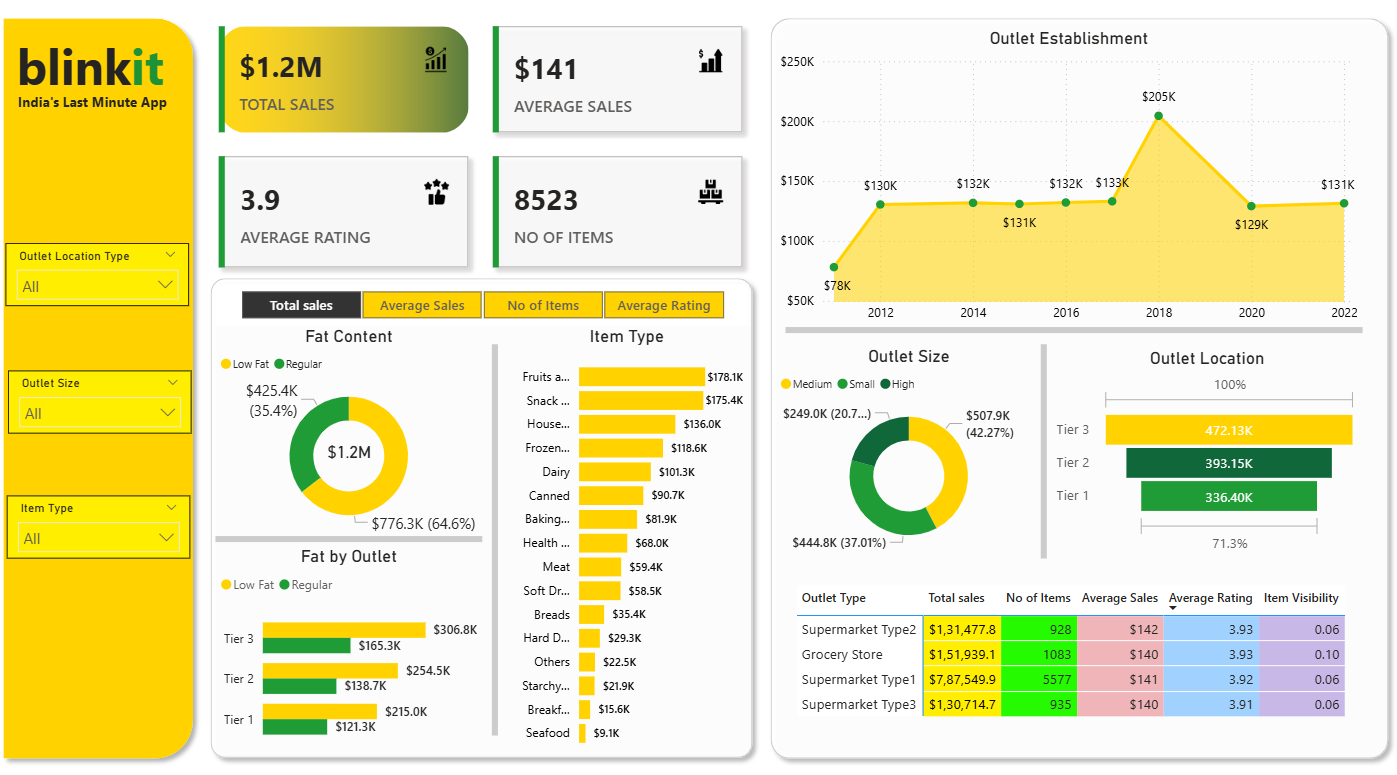

What the dashboard file says about the page in this screenshot:
{"tool":"powerbi","page":{"name":"Page 1","canvas":[1400,800],"ordinal":0},"visuals":[{"type":"shape","box":[1.5,25.5,205.6,750.4],"z":0},{"type":"textbox","box":[18,45,205.6,91.6],"z":1000},{"type":"textbox","box":[19.5,103.6,205.6,66],"z":2000},{"type":"cardVisual","fields":{"Data":["BlinkIT Grocery Data.Total sales","BlinkIT Grocery Data.Average Sales"]},"box":[207.1,25.5,553.8,139.6],"z":3000},{"type":"cardVisual","fields":{"Data":["BlinkIT Grocery Data.Average Rating","BlinkIT Grocery Data.No of Items"]},"box":[207.1,154.6,553.8,144.1],"z":4000},{"type":"shape","box":[207.1,283.7,553.8,492.3],"z":4001},{"type":"donutChart","title":"Fat Content","fields":{"Category":["BlinkIT Grocery Data.Item Fat Content"],"Y":["BlinkIT Grocery Data.Total sales"]},"box":[220.6,339.2,264.2,211.6],"z":4002},{"type":"slicer","fields":{"Values":["Parameter.Parameter"]},"box":[220.6,298.7,526.8,40.5],"z":4003},{"type":"card","fields":{"Values":["BlinkIT Grocery Data.Total sales"]},"box":[324.3,446.4,57.2,36.9],"z":4004},{"type":"clusteredBarChart","title":"Fat by Outlet ","fields":{"Category":["BlinkIT Grocery Data.Outlet Location Type"],"Y":["BlinkIT Grocery Data.Total sales"],"Series":["BlinkIT Grocery Data.Item Fat Content"]},"box":[220.6,556.8,264.2,210.1],"z":4005},{"type":"shape","box":[220.6,544.8,264.2,12],"z":4006},{"type":"shape","box":[460.8,357.2,70.5,387.2],"z":4007},{"type":"barChart","title":"Item Type","fields":{"Category":["BlinkIT Grocery Data.Item Type"],"Y":["BlinkIT Grocery Data.Total sales"]},"box":[507.3,339.2,240.1,427.7],"z":4008},{"type":"shape","box":[760.9,25.5,628.9,750.4],"z":4009},{"type":"lineChart","title":" Outlet Establishment","fields":{"Category":["BlinkIT Grocery Data.Outlet Establishment Year"],"Y":["BlinkIT Grocery Data.Total sales"]},"box":[774.4,45,580.8,300.2],"z":4010},{"type":"donutChart","title":"Outlet Size","fields":{"Y":["BlinkIT Grocery Data.Total sales"],"Category":["BlinkIT Grocery Data.Outlet Size"]},"box":[774.4,358.7,264.2,211.6],"z":4011},{"type":"shape","box":[784.7,337,571,14],"z":4012},{"type":"funnel","title":" Outlet Location ","fields":{"Y":["Sum(BlinkIT Grocery Data.Sales)"],"Category":["BlinkIT Grocery Data.Outlet Location Type"]},"box":[1048,361.2,307.8,208.6],"z":4013},{"type":"shape","box":[1034,357.4,11.4,212.4],"z":4014},{"type":"pivotTable","fields":{"Rows":["BlinkIT Grocery Data.Outlet Type"],"Values":["BlinkIT Grocery Data.Total sales","BlinkIT Grocery Data.No of Items","BlinkIT Grocery Data.Average Sales","BlinkIT Grocery Data.Average Rating","Avg(BlinkIT Grocery Data.Item Visibility)"]},"box":[789.8,591.4,586.3,162.8],"z":4015},{"type":"slicer","fields":{"Values":["BlinkIT Grocery Data.Outlet Location Type"]},"box":[12.7,256.9,181.9,62.3],"z":4016},{"type":"slicer","fields":{"Values":["BlinkIT Grocery Data.Outlet Size"]},"box":[15.3,382.8,181.9,62.3],"z":4017},{"type":"slicer","fields":{"Values":["BlinkIT Grocery Data.Item Type"]},"box":[14,507.5,181.9,62.3],"z":4018}]}

Visuals, with their boxes on the page's 1400x800 design canvas (x1, y1, x2, y2). These are canvas units, not pixel positions in the 1397x775 screenshot, which may show the page scaled, cropped or inside an application window:
shape: select_region(2, 26, 207, 776)
textbox: select_region(18, 45, 224, 137)
textbox: select_region(20, 104, 225, 170)
cardVisual - BlinkIT Grocery Data.Total sales x BlinkIT Grocery Data.Average Sales: select_region(207, 26, 761, 165)
cardVisual - BlinkIT Grocery Data.Average Rating x BlinkIT Grocery Data.No of Items: select_region(207, 155, 761, 299)
shape: select_region(207, 284, 761, 776)
"Fat Content" donutChart: select_region(221, 339, 485, 551)
slicer - Parameter.Parameter: select_region(221, 299, 747, 339)
card - BlinkIT Grocery Data.Total sales: select_region(324, 446, 382, 483)
"Fat by Outlet " clusteredBarChart: select_region(221, 557, 485, 767)
shape: select_region(221, 545, 485, 557)
shape: select_region(461, 357, 531, 744)
"Item Type" barChart: select_region(507, 339, 747, 767)
shape: select_region(761, 26, 1390, 776)
" Outlet Establishment" lineChart: select_region(774, 45, 1355, 345)
"Outlet Size" donutChart: select_region(774, 359, 1039, 570)
shape: select_region(785, 337, 1356, 351)
" Outlet Location " funnel: select_region(1048, 361, 1356, 570)
shape: select_region(1034, 357, 1045, 570)
pivotTable - BlinkIT Grocery Data.Outlet Type x BlinkIT Grocery Data.Total sales: select_region(790, 591, 1376, 754)
slicer - BlinkIT Grocery Data.Outlet Location Type: select_region(13, 257, 195, 319)
slicer - BlinkIT Grocery Data.Outlet Size: select_region(15, 383, 197, 445)
slicer - BlinkIT Grocery Data.Item Type: select_region(14, 508, 196, 570)
